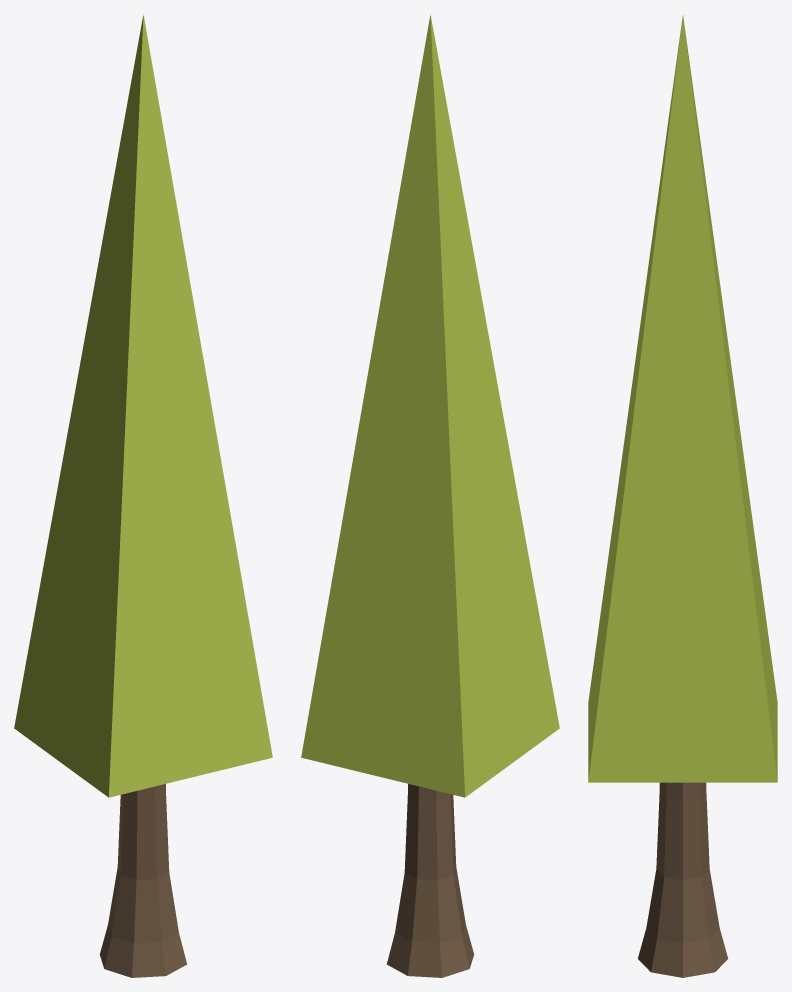
File: NHP_Tree_LP_E1_9m_01.fbx
3 views of the same model, side by side, from view 1: azimuth 30°, elevation 25°; view 2: azimuth 150°, elevation 25°; view 3: azimuth 270°, elevation 25° (orthographic).
Parts seen in each view (by area): view 1: NHP_Tree_LP_E1_9m_01; view 2: NHP_Tree_LP_E1_9m_01; view 3: NHP_Tree_LP_E1_9m_01.
Part boxes in pixels (x1,y1,x2,y2): NHP_Tree_LP_E1_9m_01: (14,14,272,977); NHP_Tree_LP_E1_9m_01: (301,14,559,977); NHP_Tree_LP_E1_9m_01: (588,15,777,977).
Bounding box in the file's own units: 1.66 × 9.15 × 1.66.
